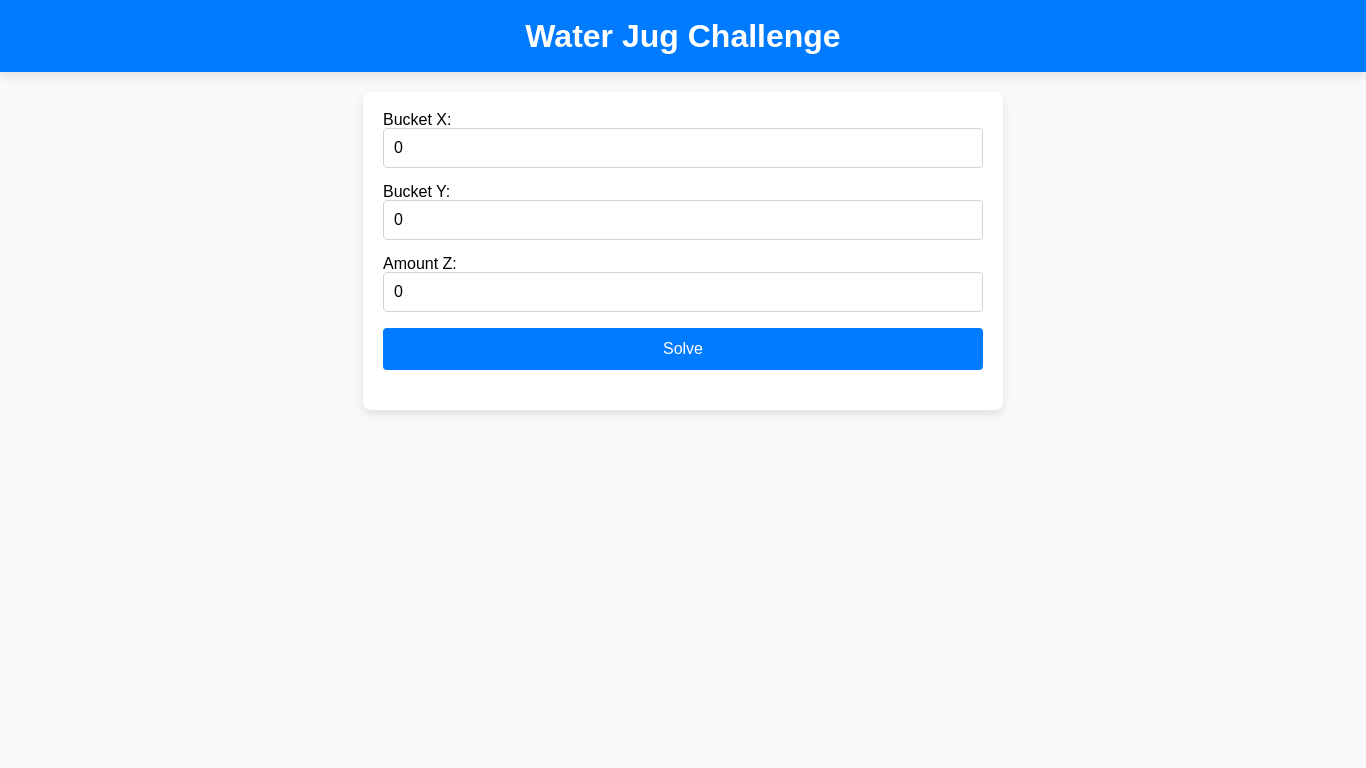
Test case: Water Jug Challenge › displays "No Solution" when the problem cannot be solved
Replace the text in the number field labelled "Bucket X:" with "2" at coordinates (683, 148), box [383,128,983,168]
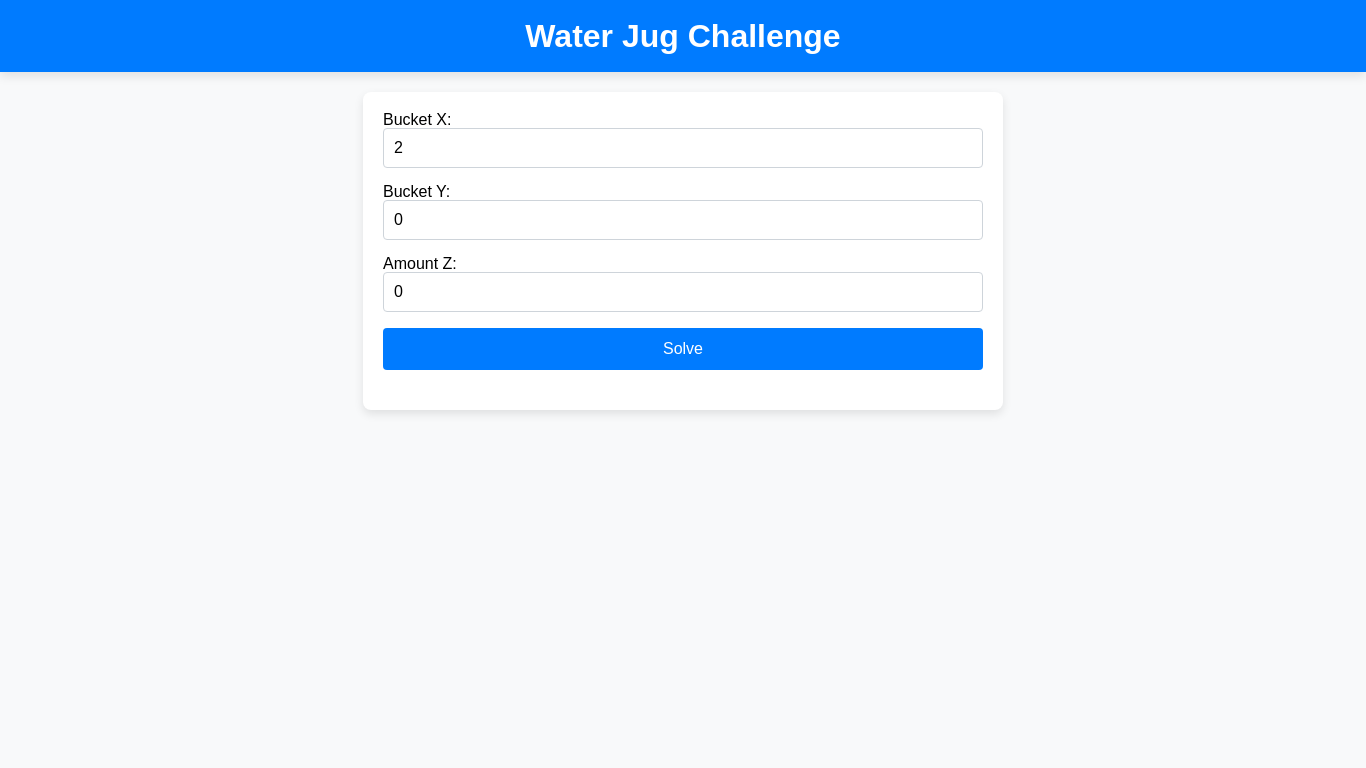
Replace the text in the number field labelled "Bucket Y:" with "100" at coordinates (683, 220), box [383,200,983,240]
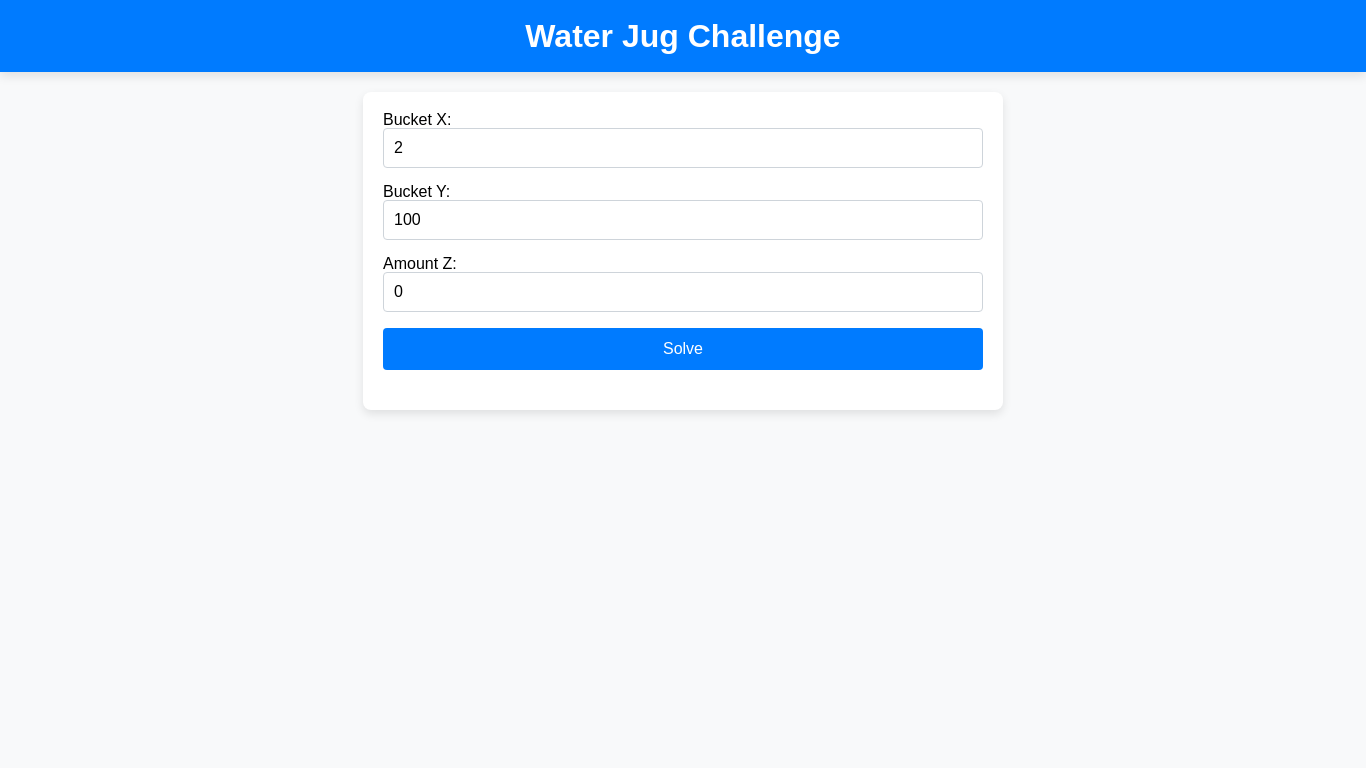
Replace the text in the number field labelled "Amount Z:" with "99" at coordinates (683, 292), box [383,272,983,312]
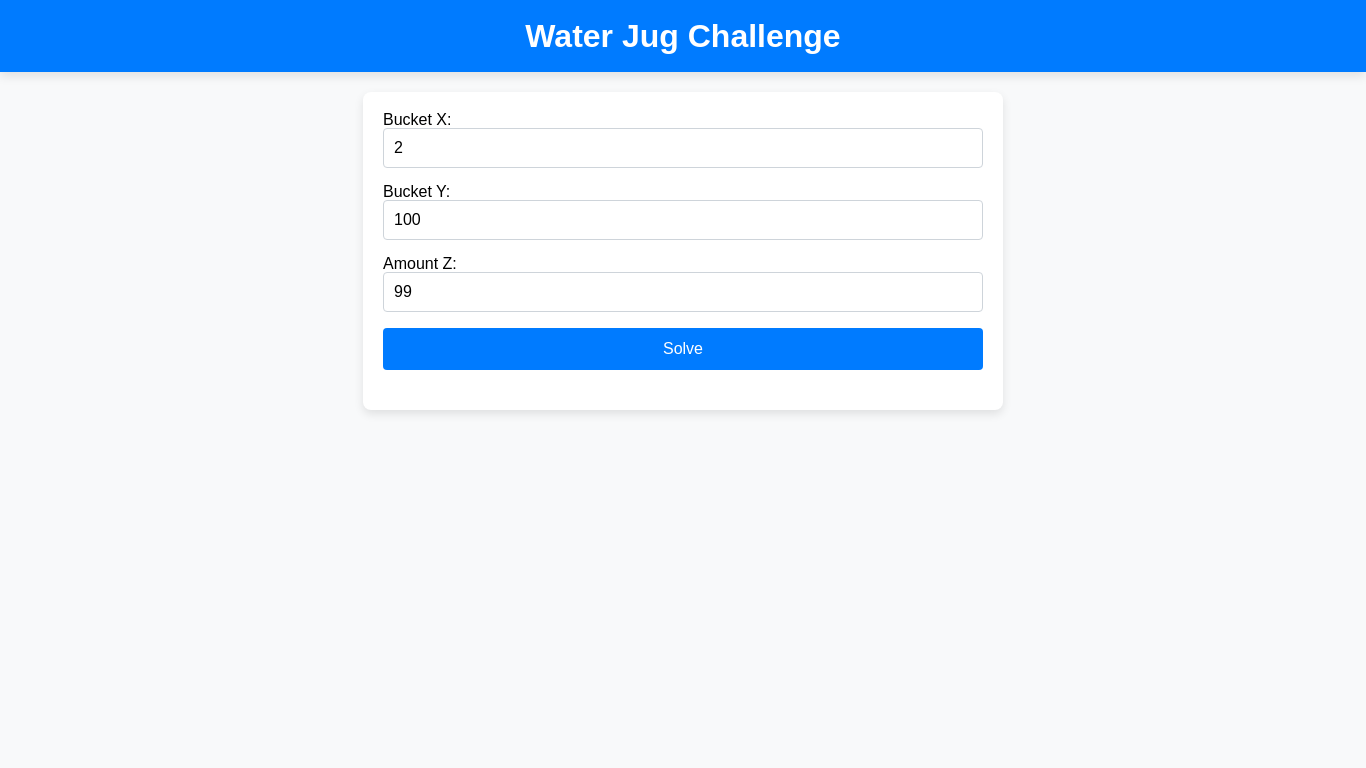
Click the button "Solve" at coordinates (683, 349), box [383,328,983,370]
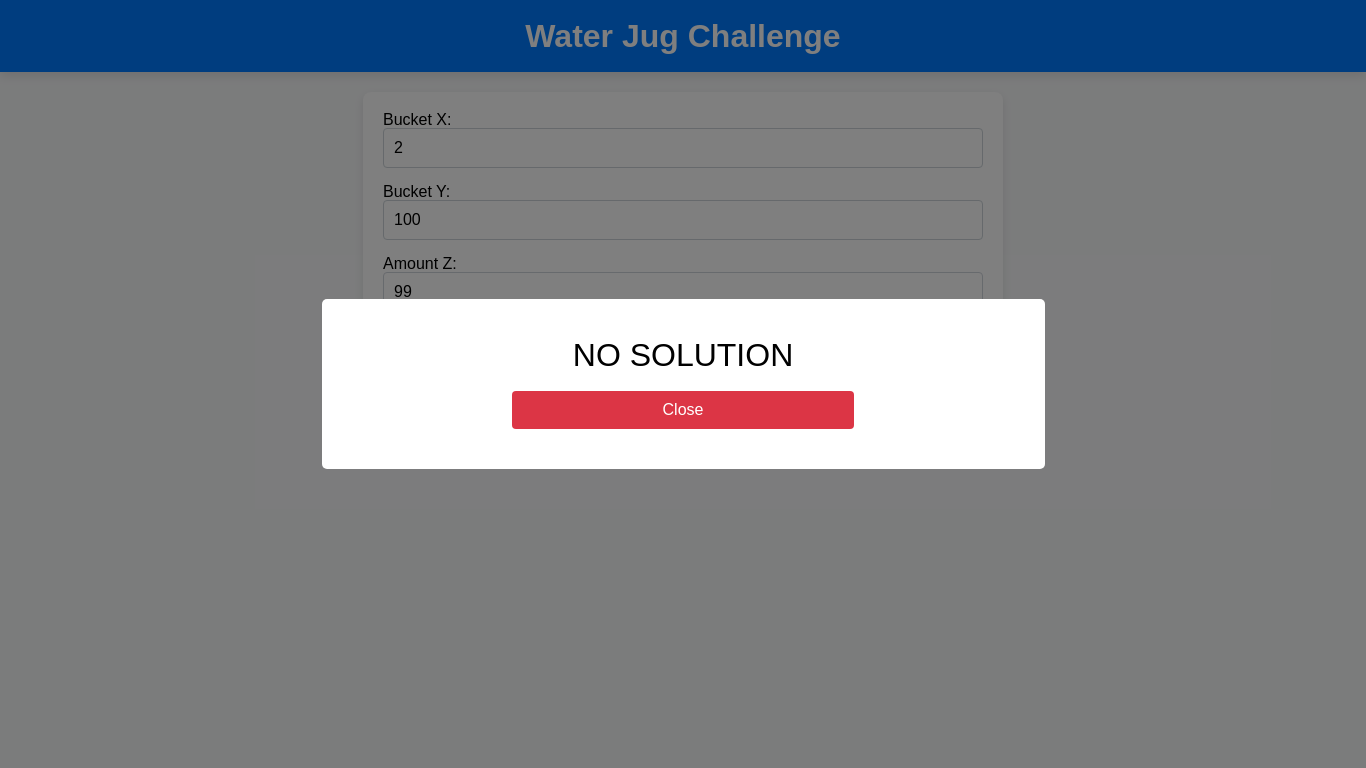
Expected: the text "No Solution" is shown, [573,337,793,373]
